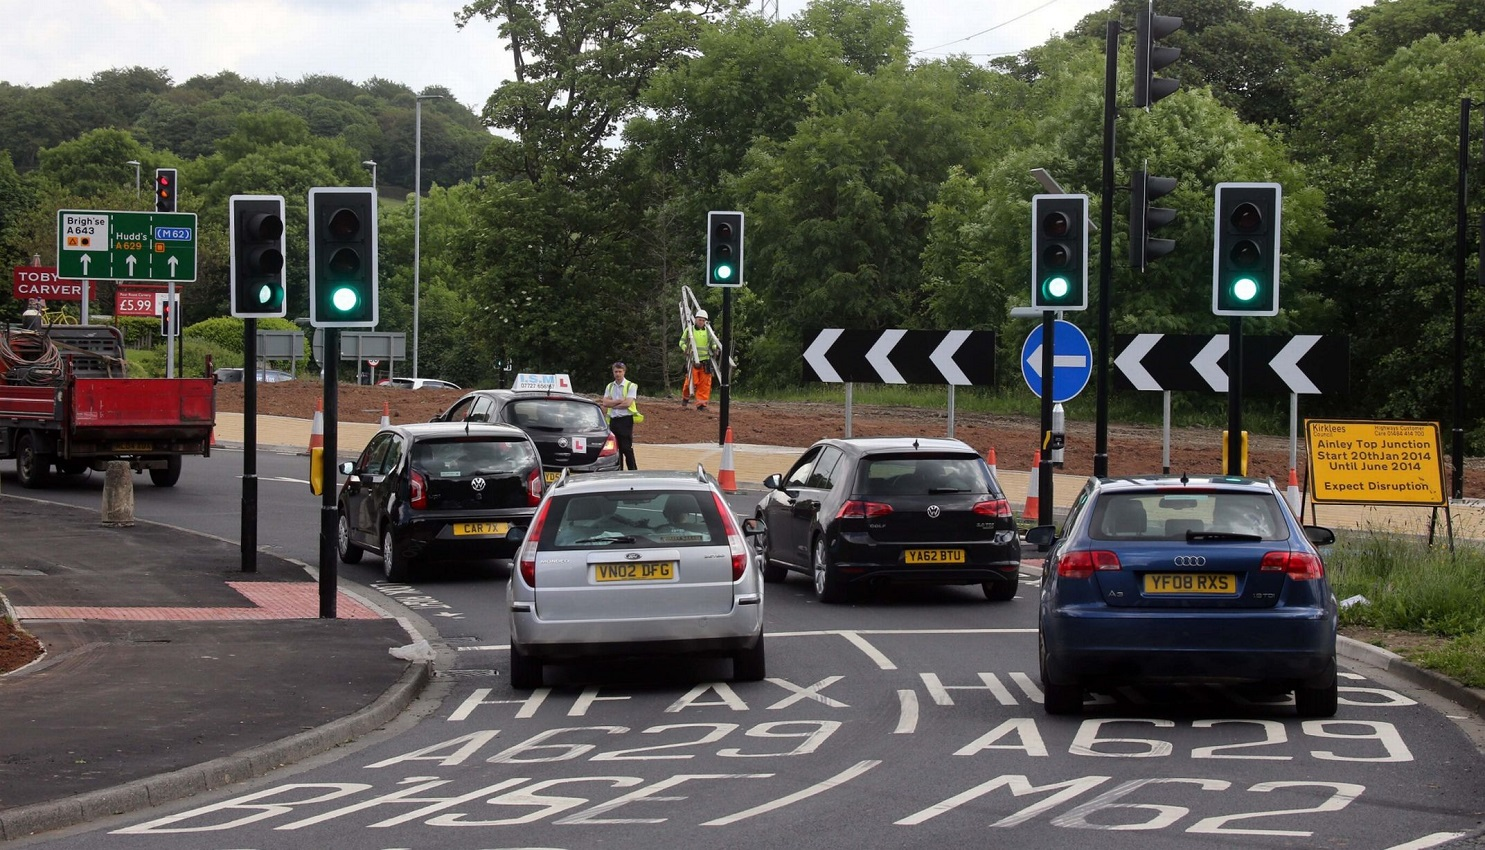traffic_light: (306, 184, 381, 329), (1210, 180, 1282, 319), (226, 191, 290, 321), (1026, 191, 1090, 315), (705, 208, 746, 290)
